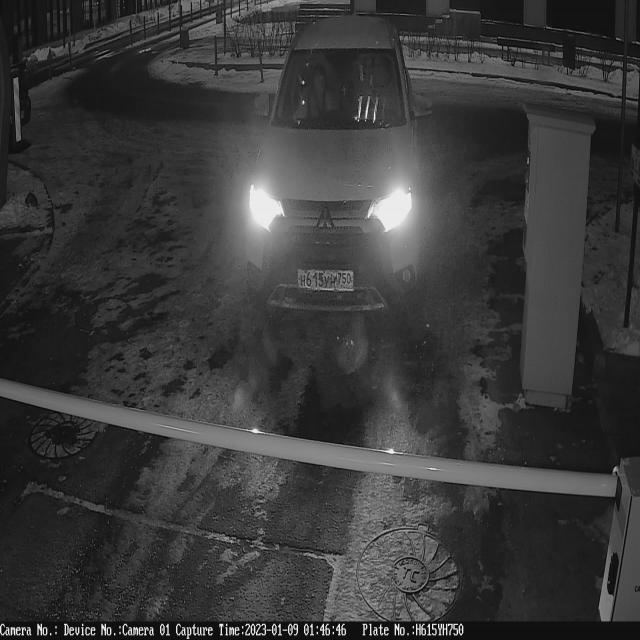car-plate-numbers: (295, 262, 359, 303)
